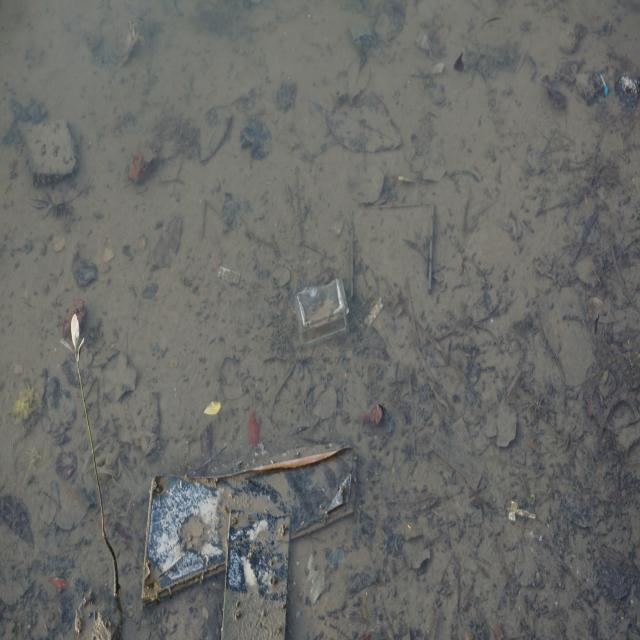Bungkus Makanan: (291, 277, 351, 342)
